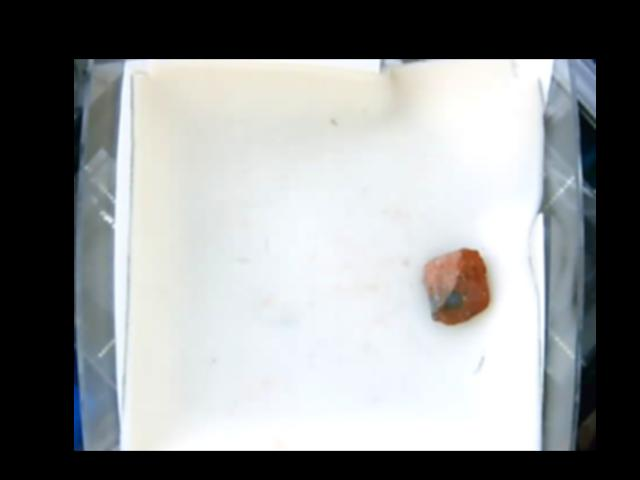Brisk: (423, 247, 489, 321)
